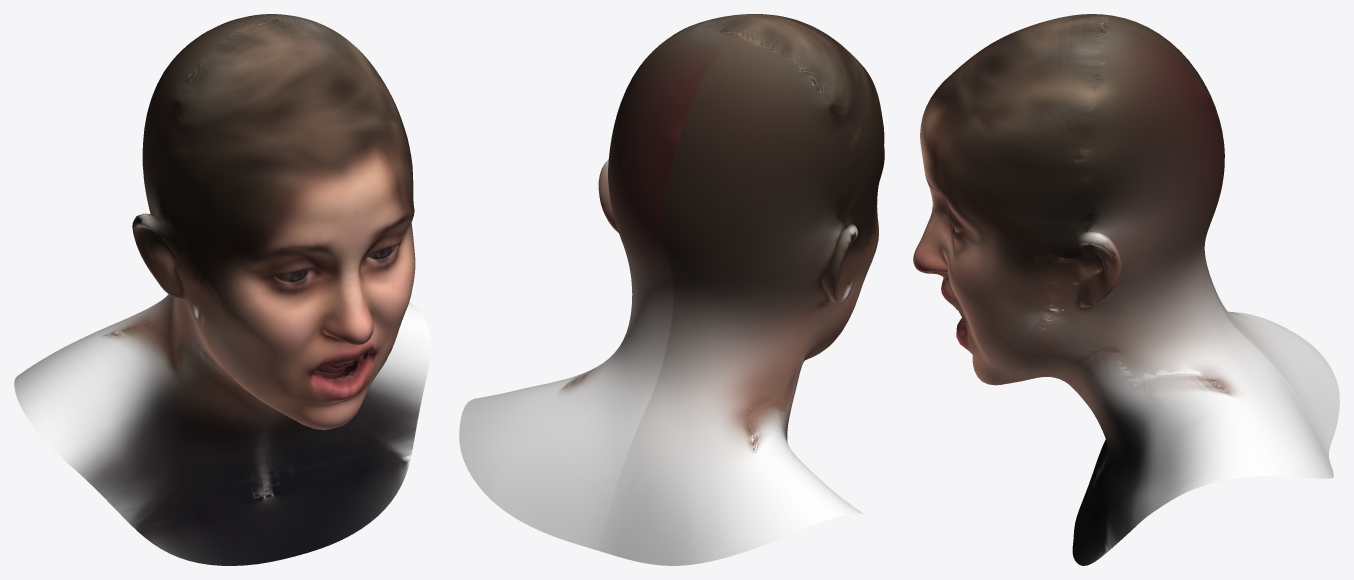
Rendered from actor24_v03_f40.glb.
3 renders of one model, left to right at view 1: azimuth 30°, elevation 25°; view 2: azimuth 150°, elevation 25°; view 3: azimuth 270°, elevation 25°, orthographic. The views are drawn at different scales.
Visible parts, largest first — view 1: tile1001; view 2: tile1001; view 3: tile1001.
Boxes of the visible parts, x1=… form: tile1001: x1=14, y1=14, x2=430, y2=565; tile1001: x1=459, y1=14, x2=884, y2=565; tile1001: x1=913, y1=14, x2=1339, y2=565.
Size of the model in its own units: 0.2586 by 0.3363 by 0.256.
Materials: 5 (5 with a texture image).
